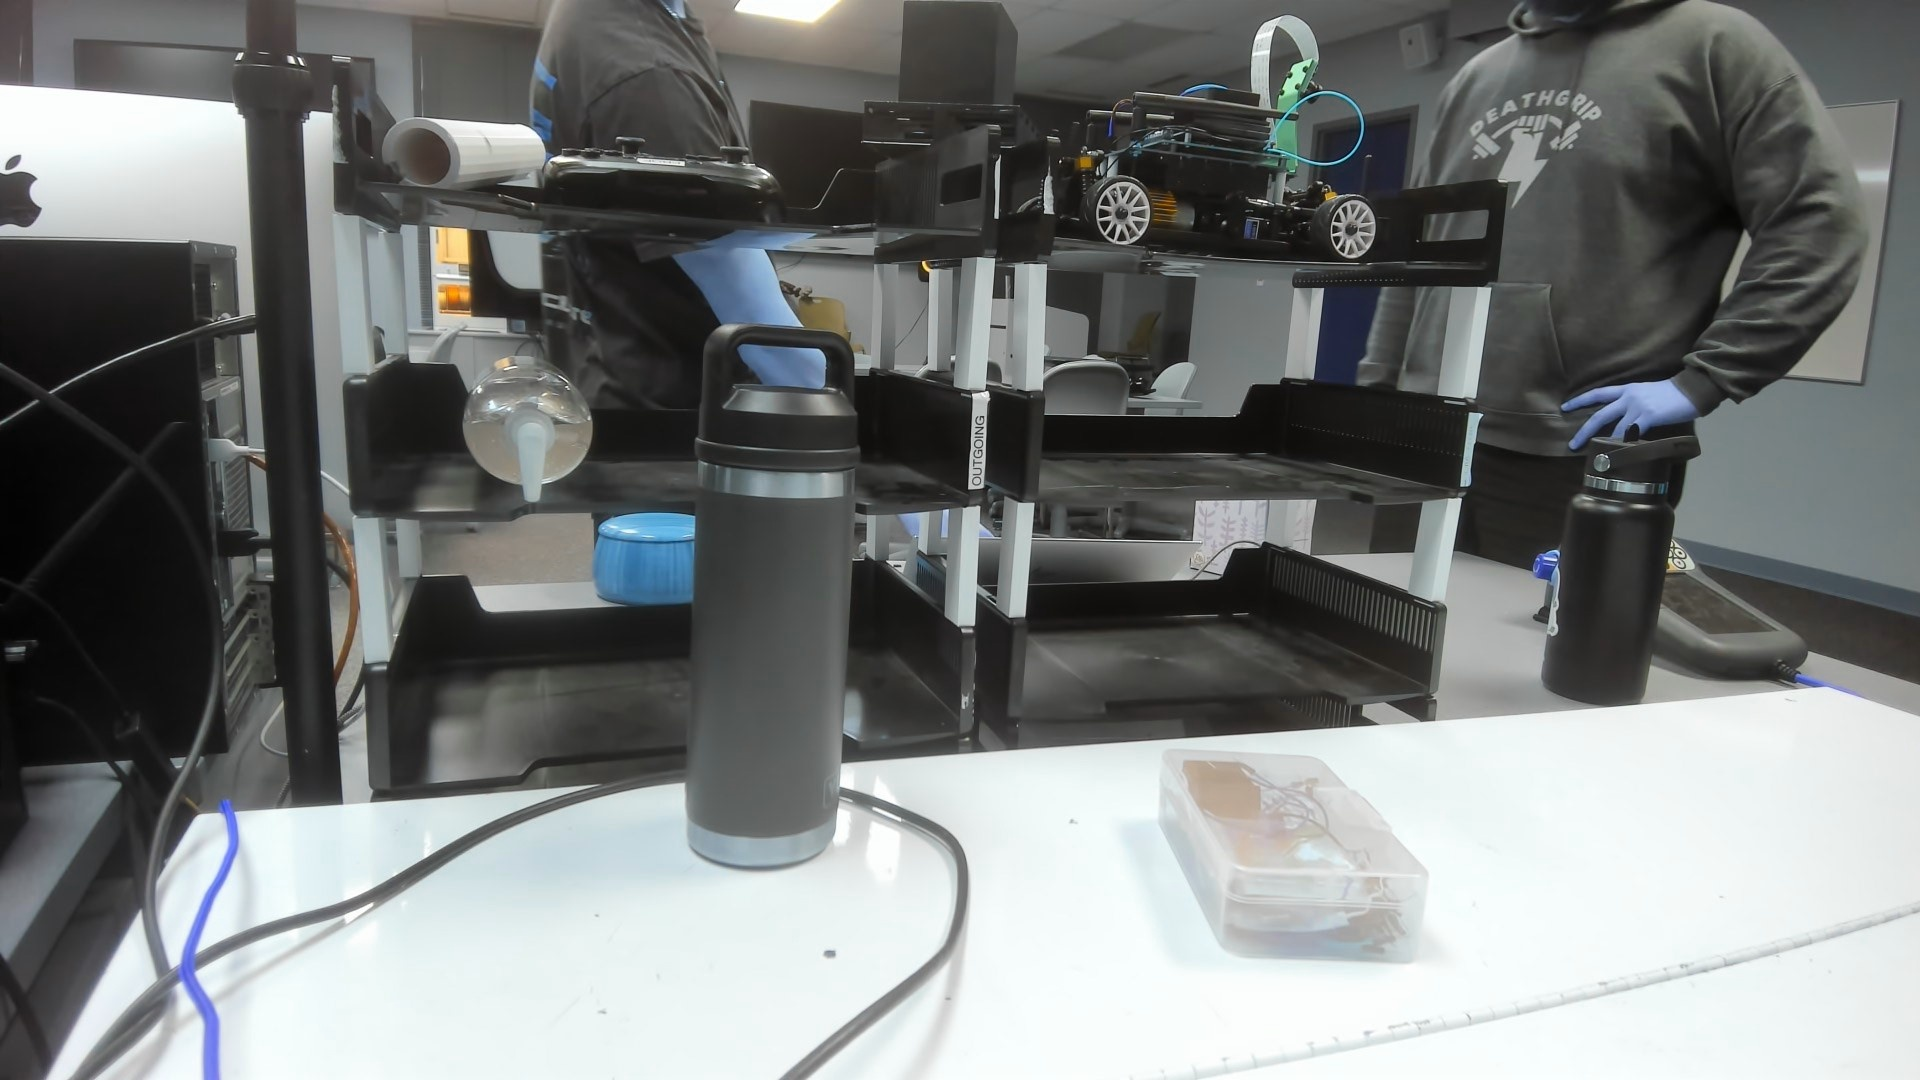black pallet: (855, 1, 1051, 150)
